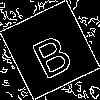B: (24, 25, 76, 80)
